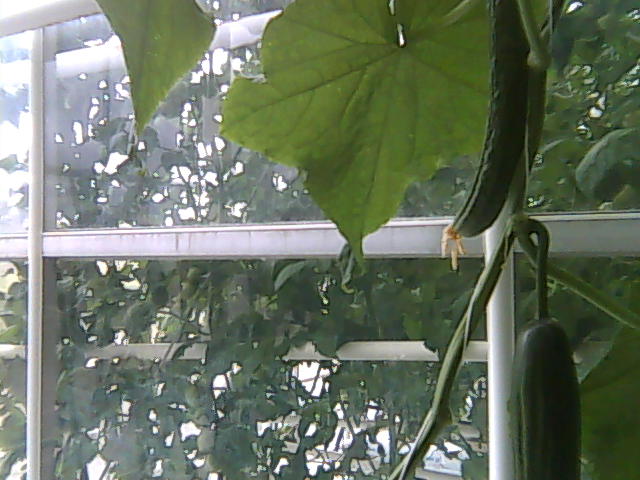concombre: (439, 1, 545, 269), (506, 305, 588, 480)
